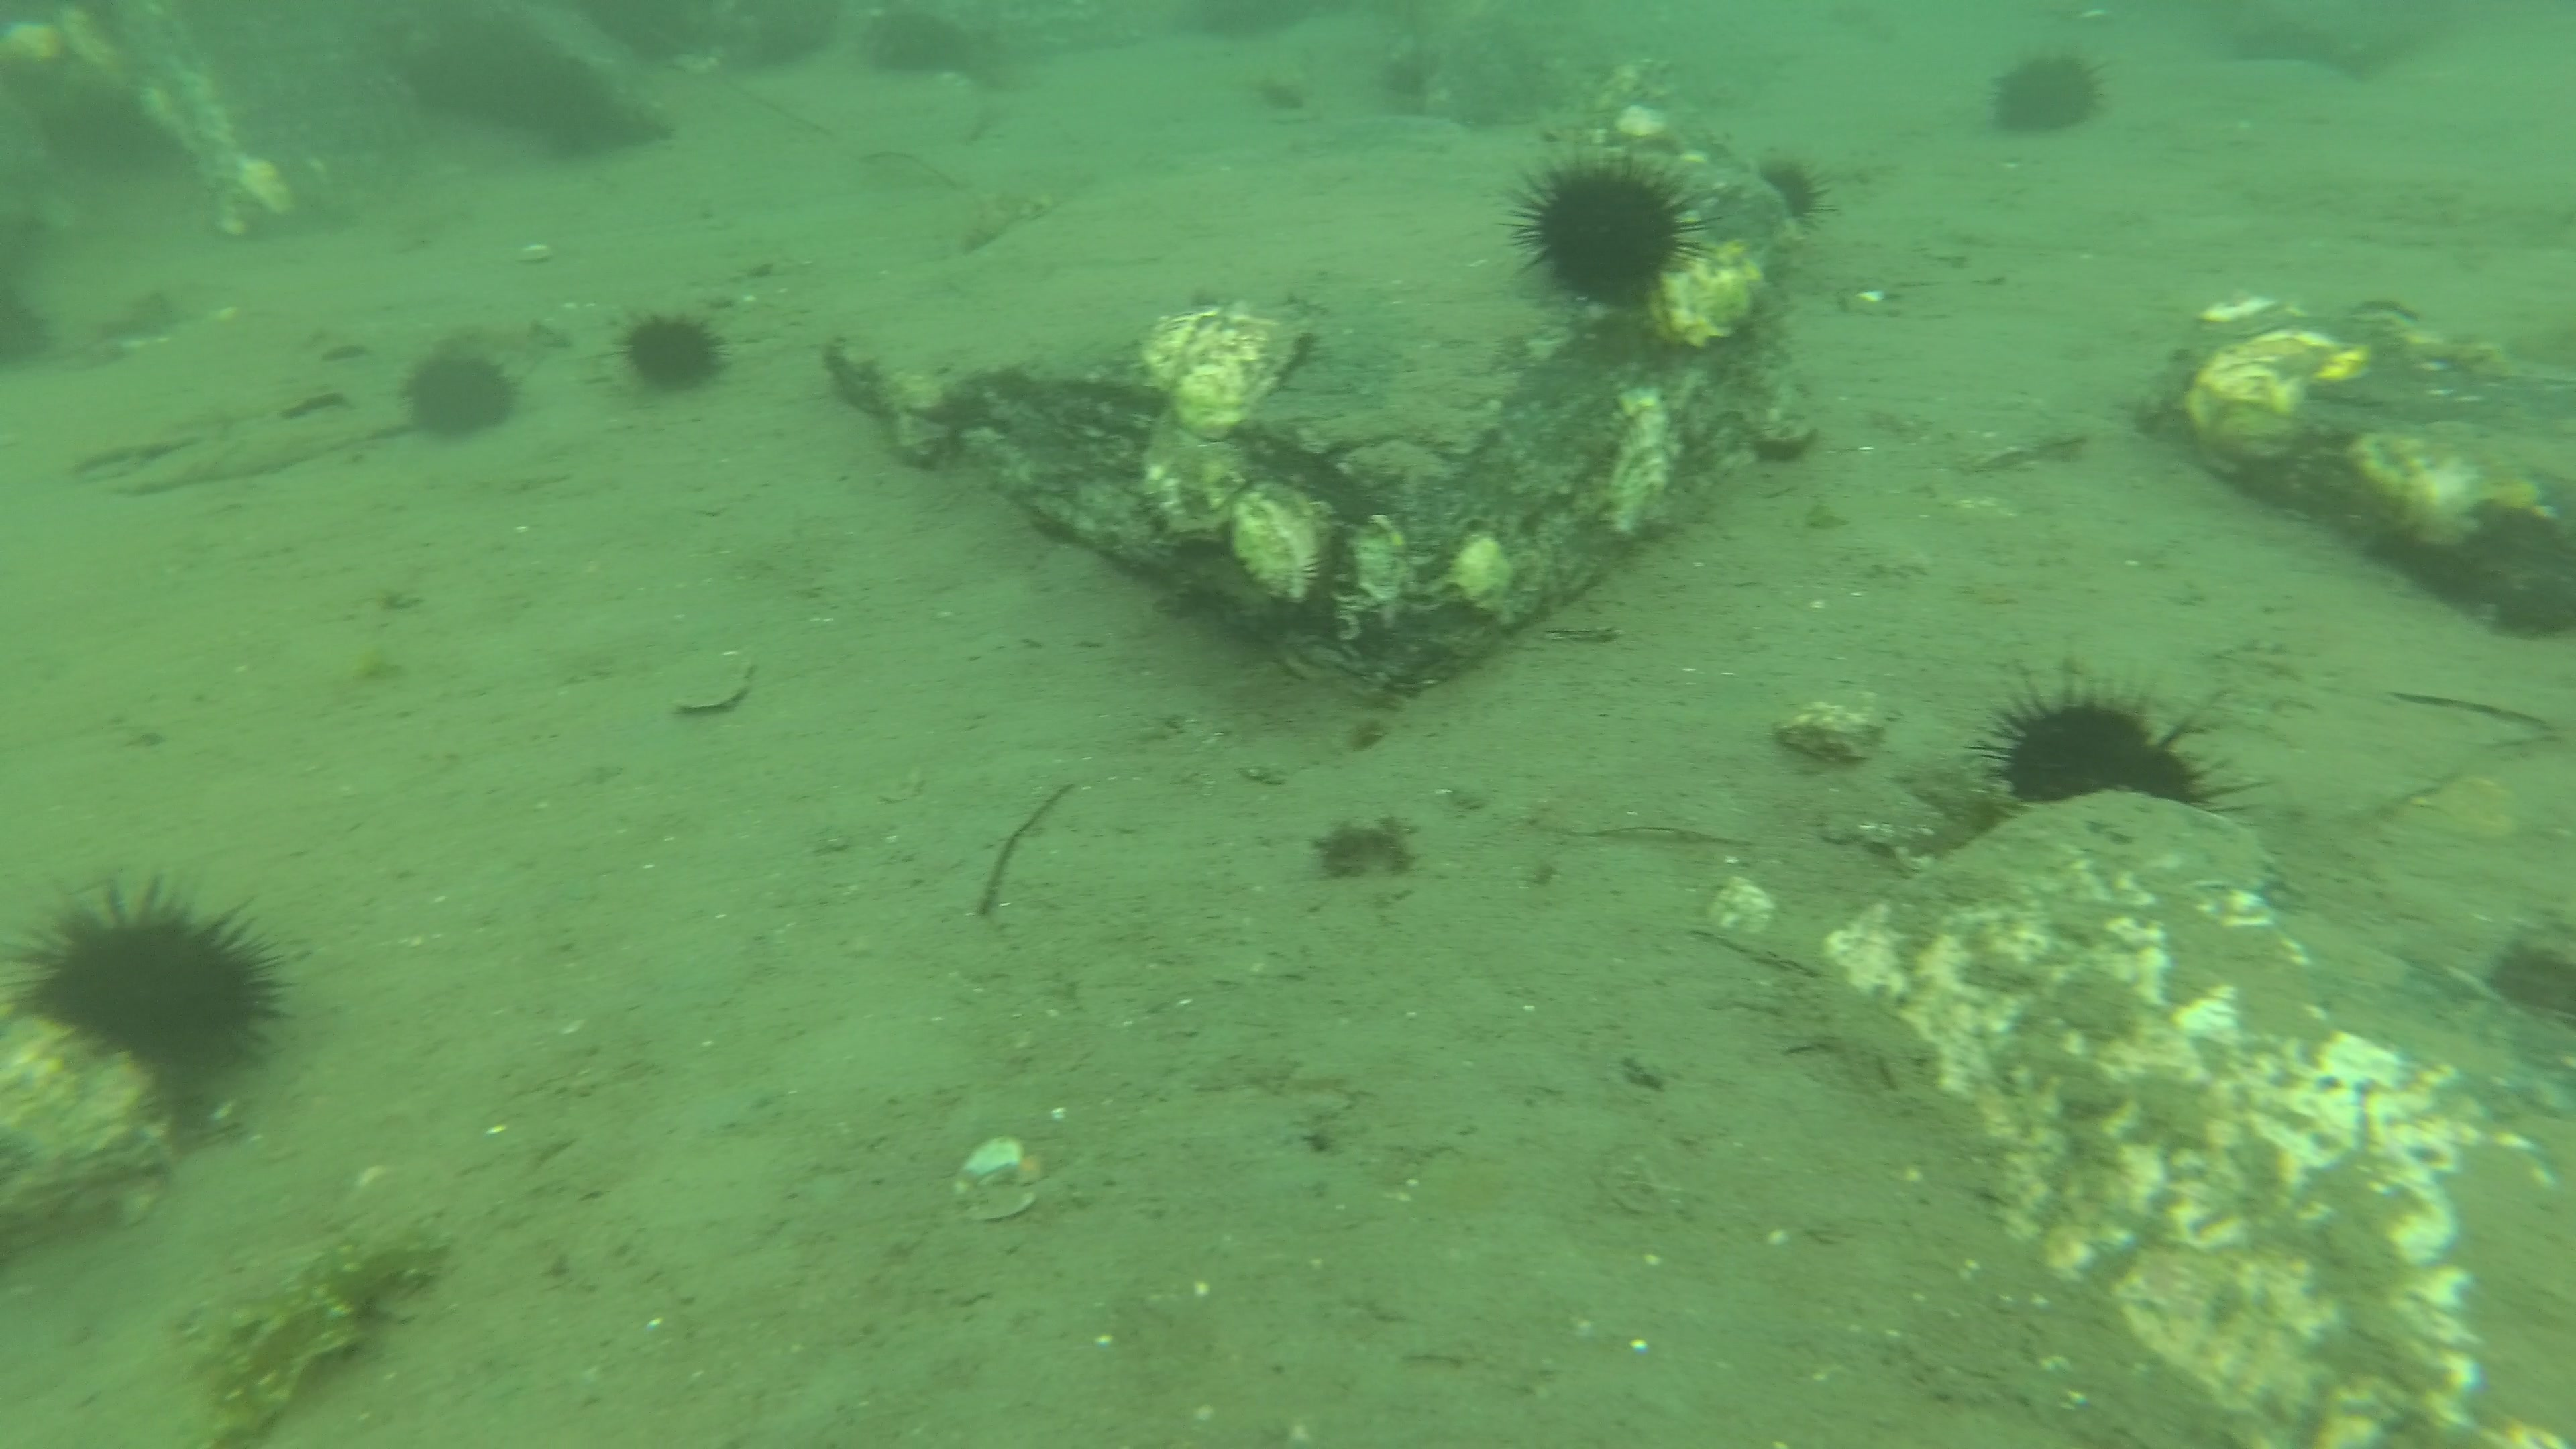echinus: (0, 879, 303, 1115), (1955, 688, 2245, 837), (1502, 145, 1714, 308), (384, 352, 531, 448), (603, 308, 740, 403), (1980, 48, 2114, 142), (1743, 165, 1829, 235)
